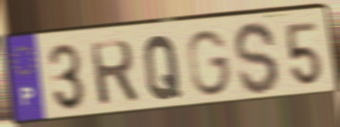3: (47, 41, 86, 113)
5: (282, 18, 326, 87)
G: (185, 28, 233, 99)
Q: (142, 33, 184, 103)
R: (87, 37, 142, 108)
S: (231, 19, 282, 97)
